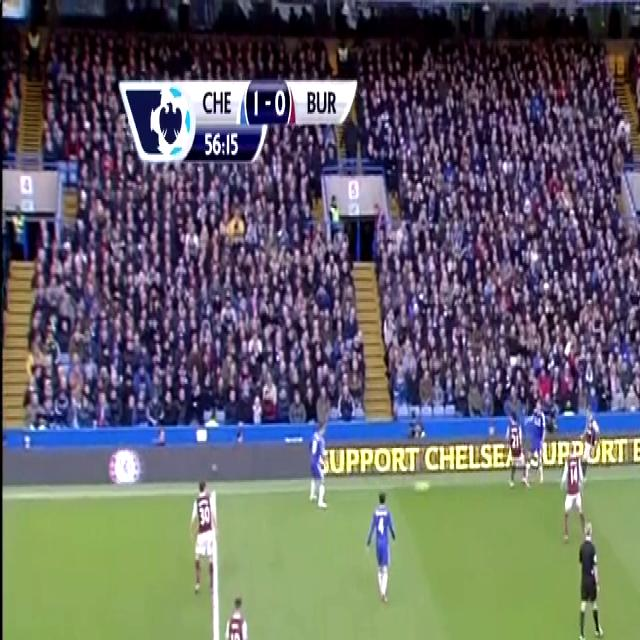ball: (415, 474, 435, 500)
referee: (572, 521, 607, 640)
soccer-player: (367, 485, 407, 612), (181, 474, 218, 606), (558, 446, 588, 548), (303, 414, 330, 518), (504, 411, 534, 496), (218, 590, 257, 640), (579, 404, 602, 479)
